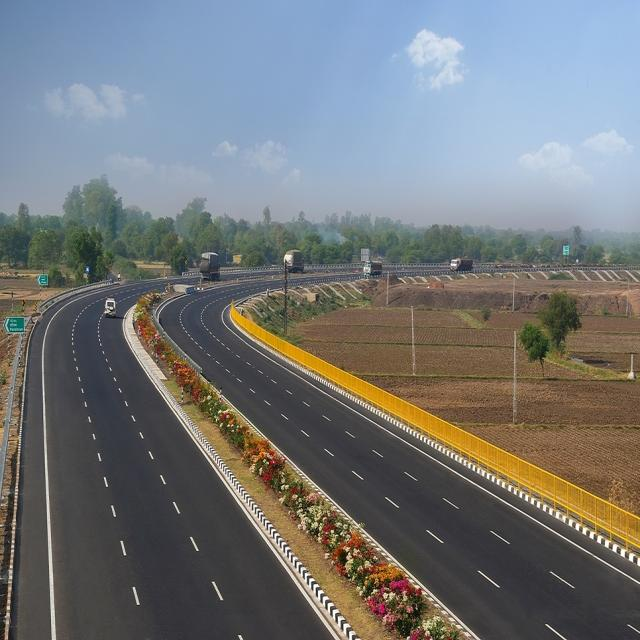Clean road: (0, 271, 640, 640)
